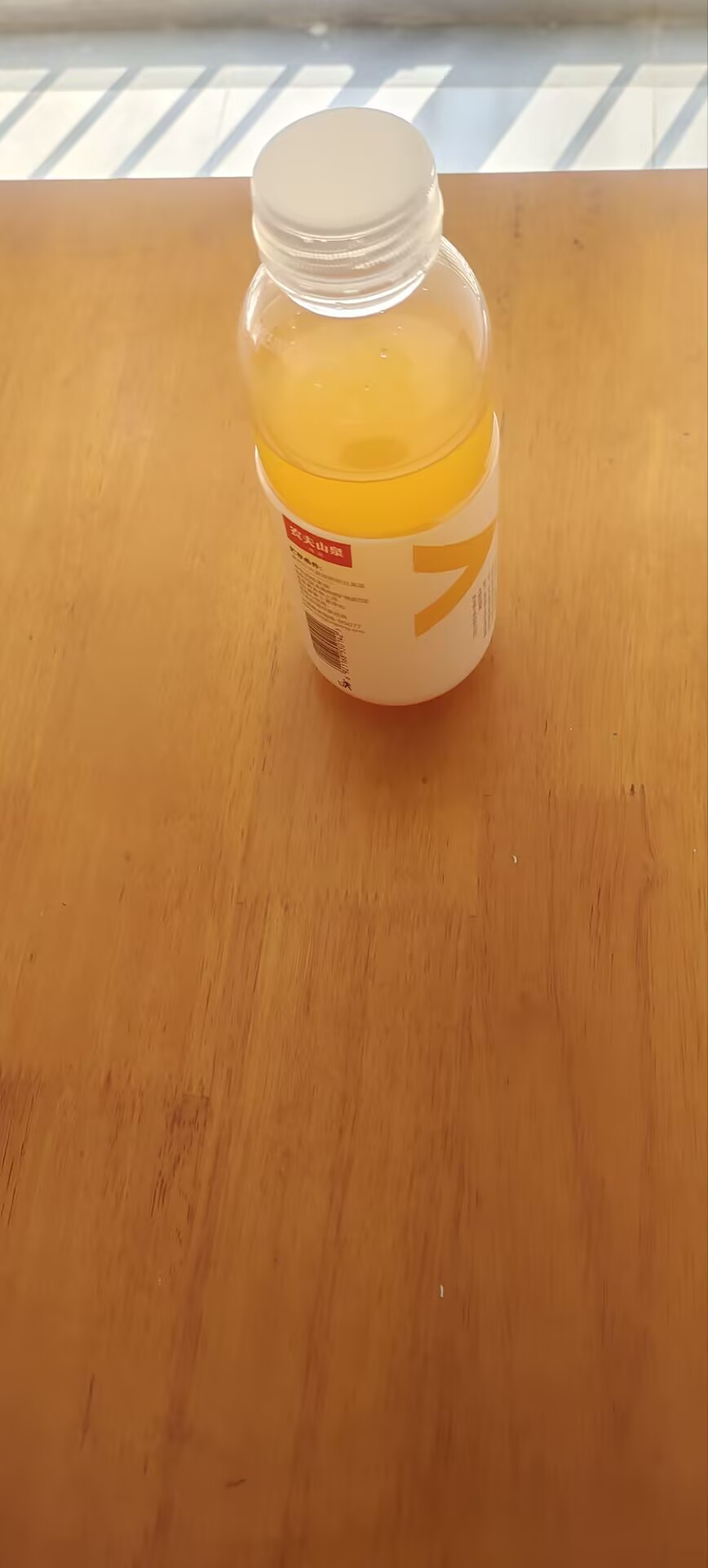redbull: (233, 121, 535, 722)
